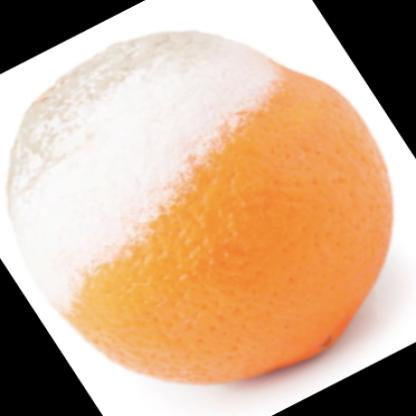rotten: (10, 34, 395, 382)
